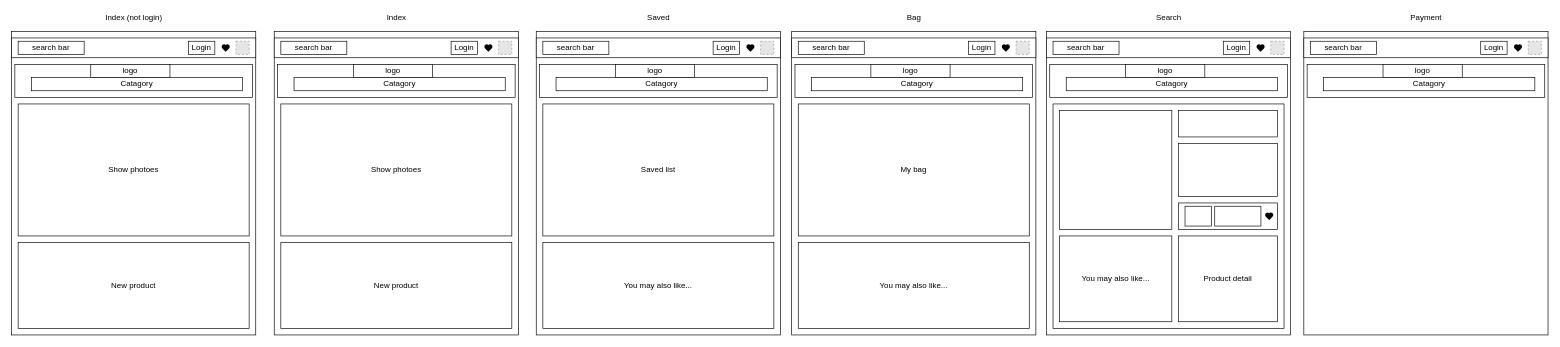
Image size: 1560x347. Some labels were removed from this diagram. Grey dashed boxes stand in for pictures. The box of each missing label's shape, as (x1, y1, x2, y2) in pixels:
Add to bag: (1214, 206, 1261, 226)
Product feature choosen: (1178, 143, 1277, 196)
Product name Price: (1178, 110, 1277, 137)
Qty: (1184, 206, 1211, 226)
Search product: (1059, 110, 1172, 229)
